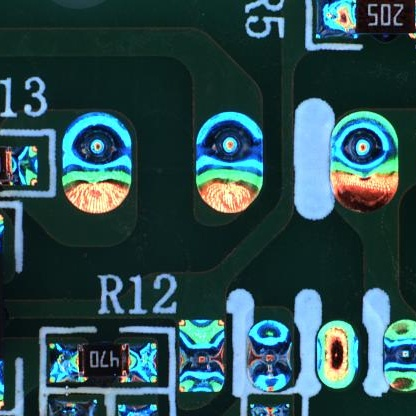spot: (191, 111, 266, 215), (61, 111, 134, 216), (328, 109, 400, 214), (247, 319, 293, 392), (316, 320, 359, 392), (383, 319, 416, 392)
